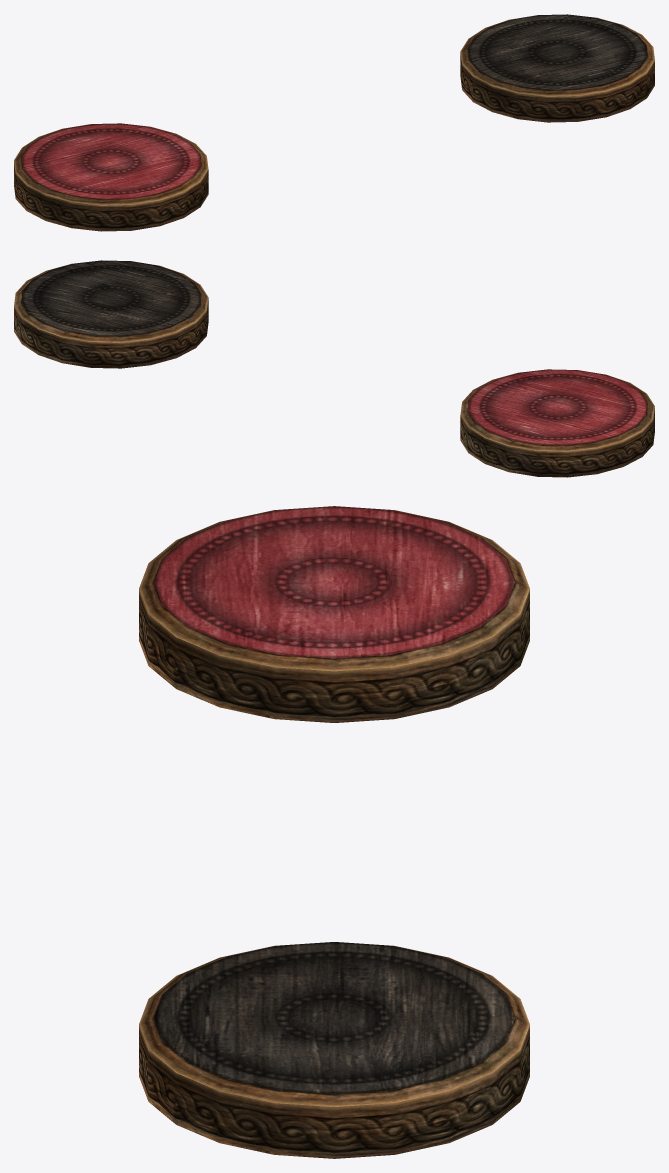
Rendered from port_Basic_Checkers.FBX.
3 renders of one model, top to bottom at view 1: azimuth 30°, elevation 25°; view 2: azimuth 150°, elevation 25°; view 3: azimuth 270°, elevation 25°, orthographic. The views are drawn at different scales.
Parts seen in each view (by area): view 1: port_Basic_Checker_Red, port_Basic_Checker_Black; view 2: port_Basic_Checker_Red, port_Basic_Checker_Black; view 3: port_Basic_Checker_Red, port_Basic_Checker_Black.
Part boxes in pixels (left/top/right/bottom): port_Basic_Checker_Red: left=14, top=123, right=208, bottom=231; port_Basic_Checker_Black: left=460, top=14, right=654, bottom=122; port_Basic_Checker_Red: left=460, top=369, right=654, bottom=477; port_Basic_Checker_Black: left=14, top=260, right=208, bottom=368; port_Basic_Checker_Red: left=139, top=506, right=529, bottom=722; port_Basic_Checker_Black: left=139, top=942, right=529, bottom=1158.
Bounding box in the file's own units: 212 × 10.5 × 58.24.
